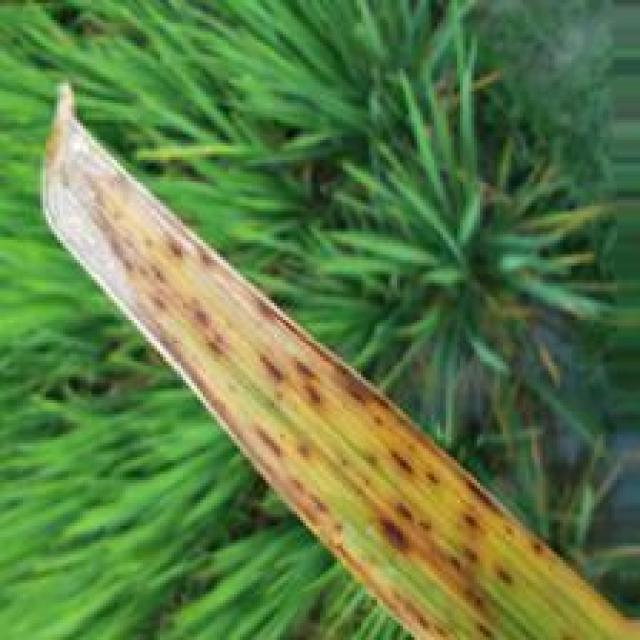Narrow_Brown_Leaf_Spot: (38, 116, 580, 640)
